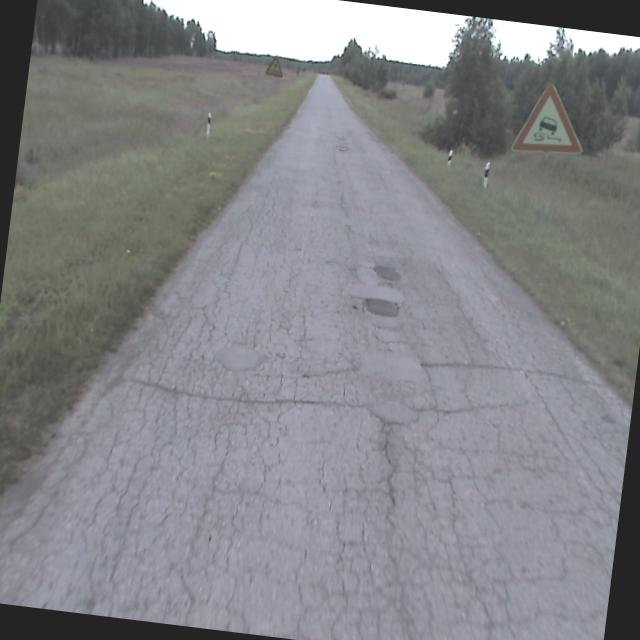road: (0, 73, 631, 640)
